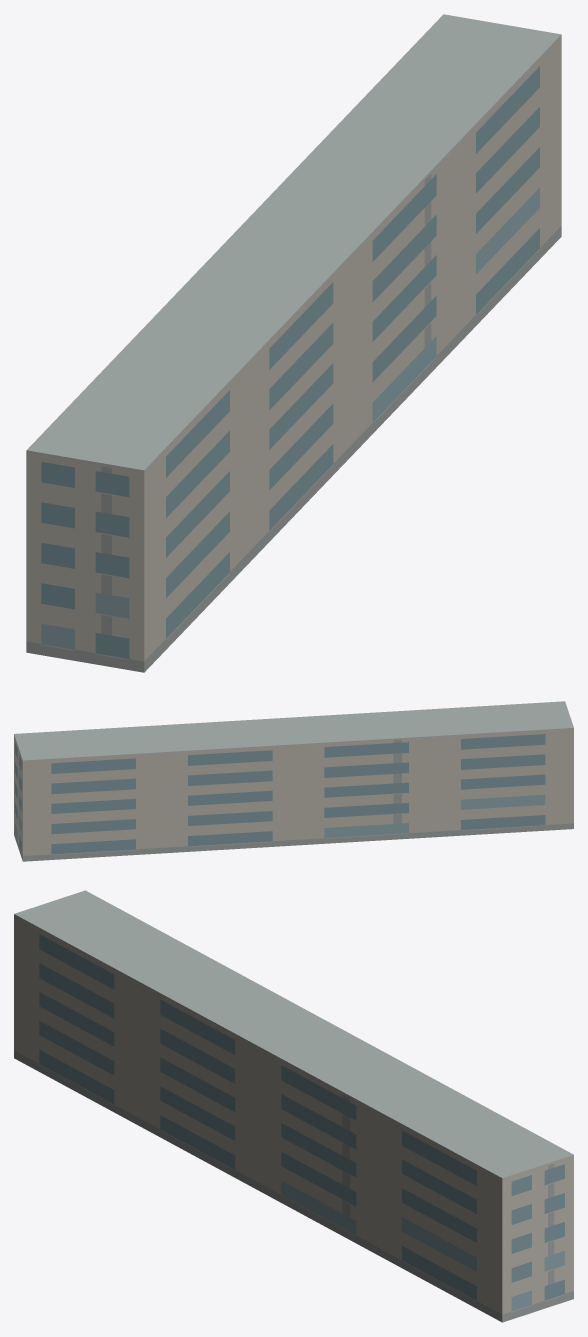
File: residential-16b73a8d-c404-4964-930c-16f5436b4982.glb
The picture shows the model from 3 angles, top to bottom: view 1: azimuth 30°, elevation 25°; view 2: azimuth 150°, elevation 25°; view 3: azimuth 270°, elevation 25°; orthographic projection. The views are drawn at different scales.
Parts seen in each view (by area): view 1: residential-16b73a8d-c404-4964-930c-16f5436b4982.tmp; view 2: residential-16b73a8d-c404-4964-930c-16f5436b4982.tmp; view 3: residential-16b73a8d-c404-4964-930c-16f5436b4982.tmp.
Boxes of the visible parts, box(x1,y1,x2,y2) form: residential-16b73a8d-c404-4964-930c-16f5436b4982.tmp: box(26, 14, 561, 672); residential-16b73a8d-c404-4964-930c-16f5436b4982.tmp: box(14, 701, 573, 861); residential-16b73a8d-c404-4964-930c-16f5436b4982.tmp: box(14, 890, 573, 1322).
Bounding box in the file's own units: 65.27 × 15.25 × 53.63.
